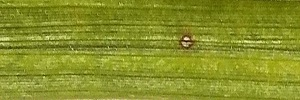RiceBlast: (175, 31, 198, 54)
